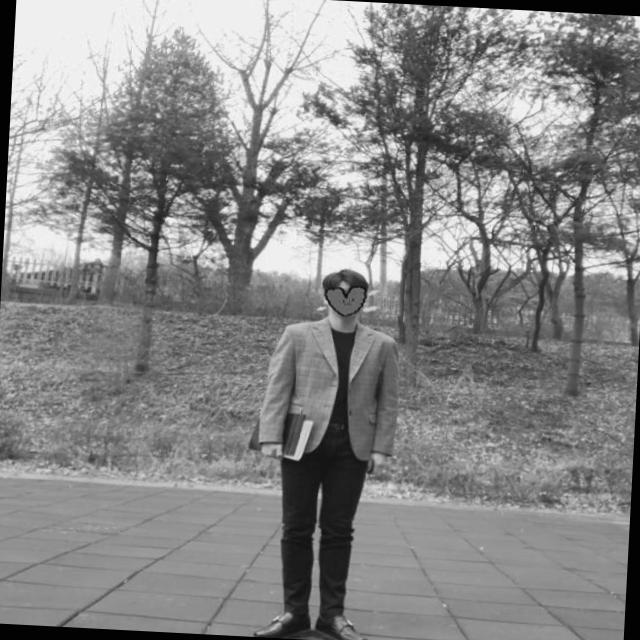blazer: (254, 314, 404, 464)
denimpants: (271, 420, 373, 625)
